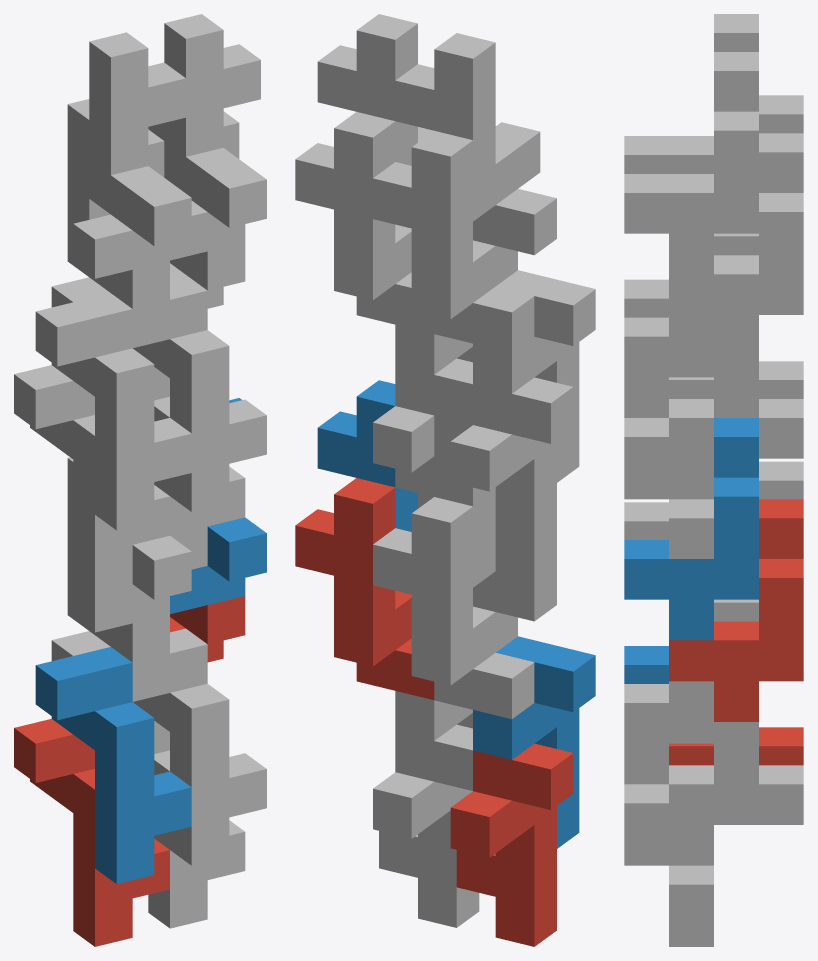
File: tiling.obj
The picture shows the model from 3 angles, left to right: view 1: azimuth 30°, elevation 25°; view 2: azimuth 150°, elevation 25°; view 3: azimuth 270°, elevation 25°; orthographic projection. The views are drawn at different scales.
Visible parts, largest first — view 1: copy_2_domain_4, copy_1_domain_2, copy_1_domain_4, copy_2_domain_8, copy_1_domain_6, copy_1_domain_8, copy_1_domain_3, copy_1_domain_1, copy_2_domain_3, copy_2_domain_2, copy_1_domain_5, copy_2_domain_6 (+4 smaller); view 2: copy_2_domain_3, copy_2_domain_1, copy_1_domain_1, copy_2_domain_4, copy_1_domain_3, copy_2_domain_5, copy_2_domain_7, copy_1_domain_5, copy_1_domain_2, copy_1_domain_4, copy_2_domain_2, copy_2_domain_8 (+4 smaller); view 3: copy_2_domain_8, copy_2_domain_5, copy_1_domain_5, copy_2_domain_6, copy_2_domain_7, copy_1_domain_8, copy_1_domain_6, copy_1_domain_7, copy_2_domain_4, copy_1_domain_1, copy_2_domain_1, copy_2_domain_3 (+4 smaller).
Part boxes in pixels (bbox=[...]): copy_2_domain_4: bbox=[73, 32, 191, 278]; copy_1_domain_2: bbox=[35, 647, 191, 883]; copy_1_domain_4: bbox=[35, 293, 191, 530]; copy_2_domain_8: bbox=[164, 14, 266, 260]; copy_1_domain_6: bbox=[132, 628, 266, 865]; copy_1_domain_8: bbox=[132, 275, 266, 511]; copy_1_domain_3: bbox=[14, 365, 169, 593]; copy_1_domain_1: bbox=[14, 719, 169, 946]; copy_2_domain_3: bbox=[51, 99, 169, 308]; copy_2_domain_2: bbox=[73, 535, 191, 632]; copy_1_domain_5: bbox=[148, 721, 245, 928]; copy_2_domain_6: bbox=[170, 398, 266, 614]; copy_2_domain_3: bbox=[373, 131, 534, 352]; copy_2_domain_1: bbox=[373, 497, 534, 719]; copy_1_domain_1: bbox=[450, 743, 573, 946]; copy_2_domain_4: bbox=[395, 33, 556, 255]; copy_1_domain_3: bbox=[450, 377, 573, 580]; copy_2_domain_5: bbox=[295, 478, 434, 699]; copy_2_domain_7: bbox=[295, 112, 434, 333]; copy_1_domain_5: bbox=[373, 724, 479, 927]; copy_1_domain_2: bbox=[473, 636, 595, 848]; copy_1_domain_4: bbox=[473, 270, 595, 482]; copy_2_domain_2: bbox=[395, 415, 556, 621]; copy_2_domain_8: bbox=[317, 14, 433, 165]; copy_2_domain_8: bbox=[624, 52, 758, 274]; copy_2_domain_5: bbox=[669, 499, 803, 721]; copy_1_domain_5: bbox=[669, 743, 803, 946]; copy_2_domain_6: bbox=[624, 418, 758, 640]; copy_2_domain_7: bbox=[669, 133, 803, 355]; copy_1_domain_8: bbox=[624, 315, 758, 499]; copy_1_domain_6: bbox=[624, 681, 758, 865]; copy_1_domain_7: bbox=[669, 377, 803, 558]; copy_2_domain_4: bbox=[624, 14, 758, 173]; copy_1_domain_1: bbox=[669, 727, 803, 765]; copy_2_domain_1: bbox=[714, 461, 803, 621]; copy_2_domain_3: bbox=[714, 95, 803, 255].
Size of the model in its own units: 6 by 22 by 4.
